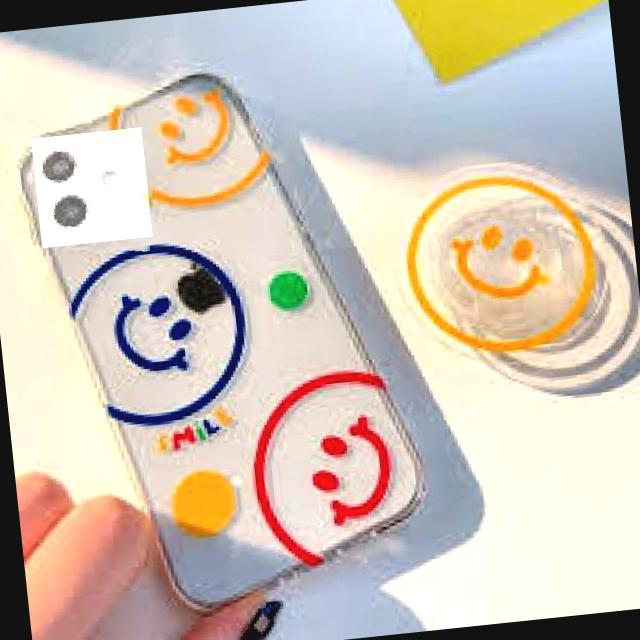lens_back: (40, 182, 94, 234), (36, 138, 84, 184)
phone: (7, 52, 444, 624)
